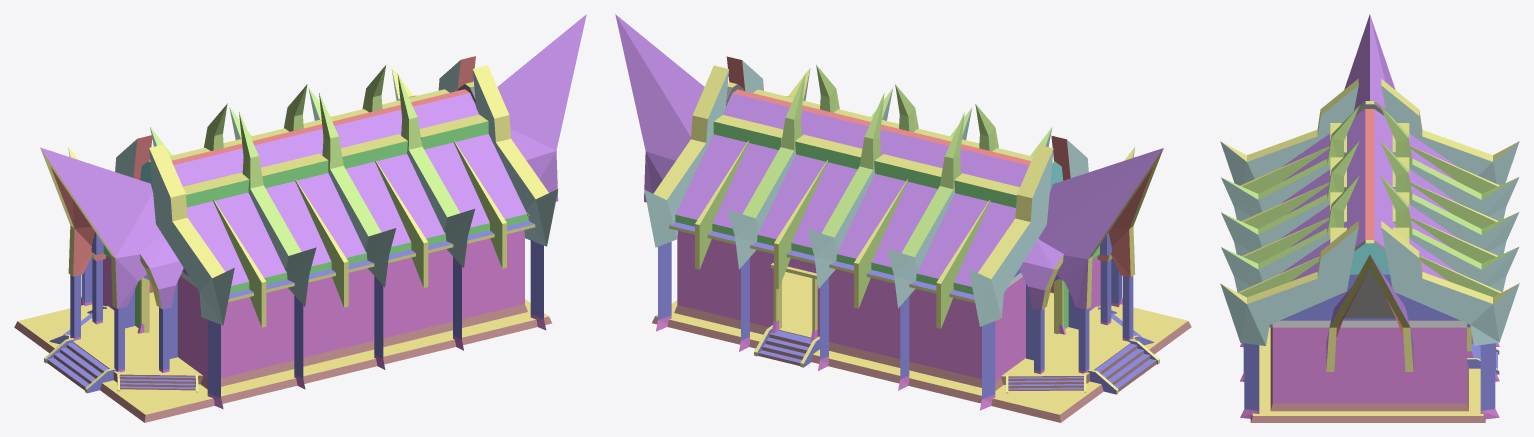
The picture shows the model from 3 angles, left to right: view 1: azimuth 30°, elevation 25°; view 2: azimuth 150°, elevation 25°; view 3: azimuth 270°, elevation 25°; orthographic projection. The views are drawn at different scales.
Visible parts, largest first — view 1: O_DE_WH; view 2: O_DE_WH; view 3: O_DE_WH.
Boxes of the visible parts, x1,y1,x2,y2 form: O_DE_WH: (14,14,586,422); O_DE_WH: (615,14,1191,422); O_DE_WH: (1220,14,1519,422).
Size of the model in its own units: 12.99 by 5.37 by 6.85.
